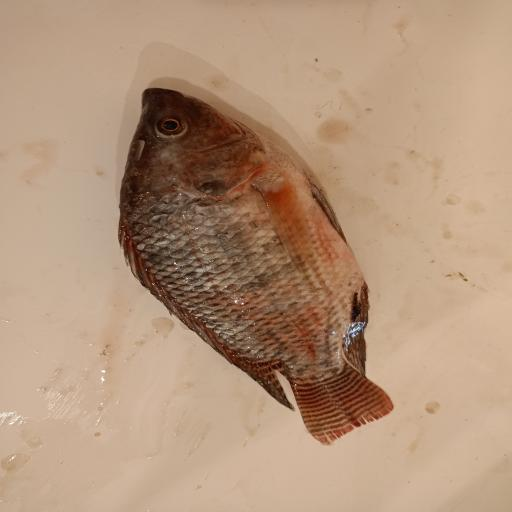Tilapia: (118, 88, 394, 445)
